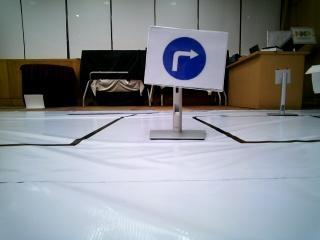right: (156, 31, 218, 91)
